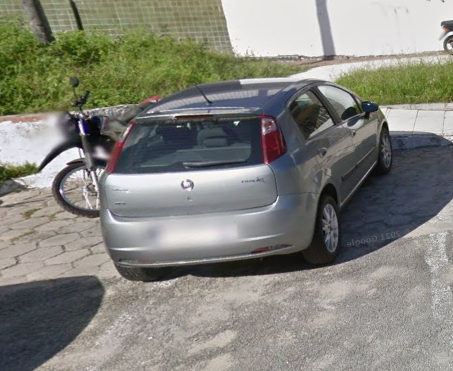car: (98, 74, 394, 286)
